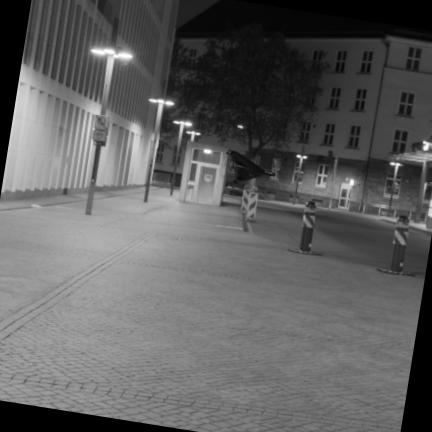Shahed: (227, 150, 275, 183)
